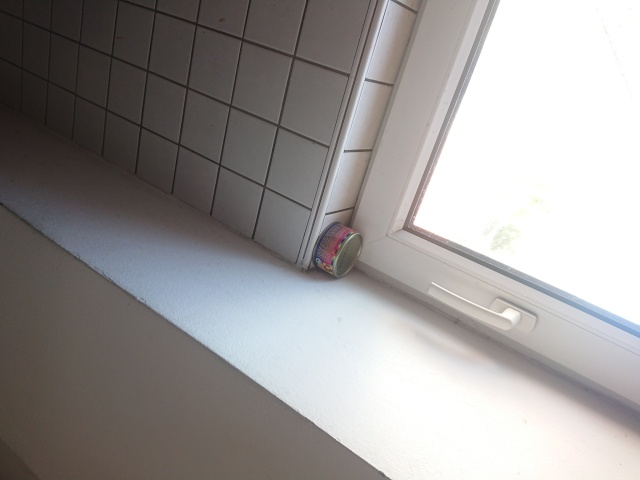Giana Tuna Salad Mexico 185g: (310, 219, 367, 281)
